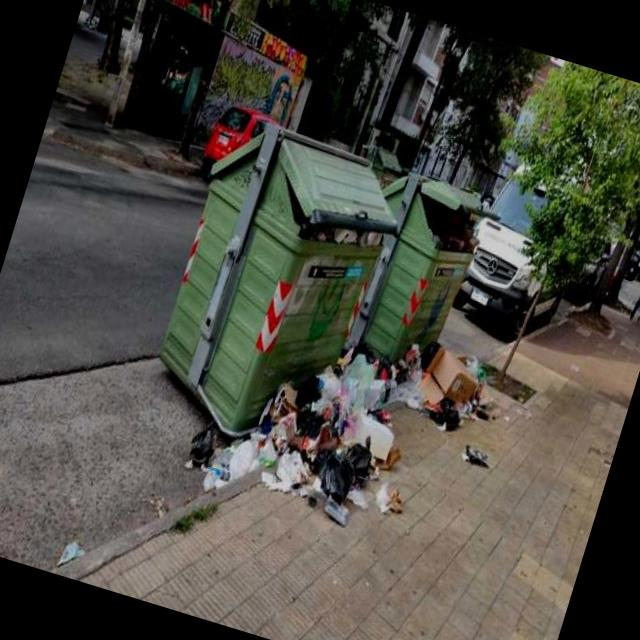high trash: (203, 345, 497, 524)
less trash: (466, 445, 489, 468)
